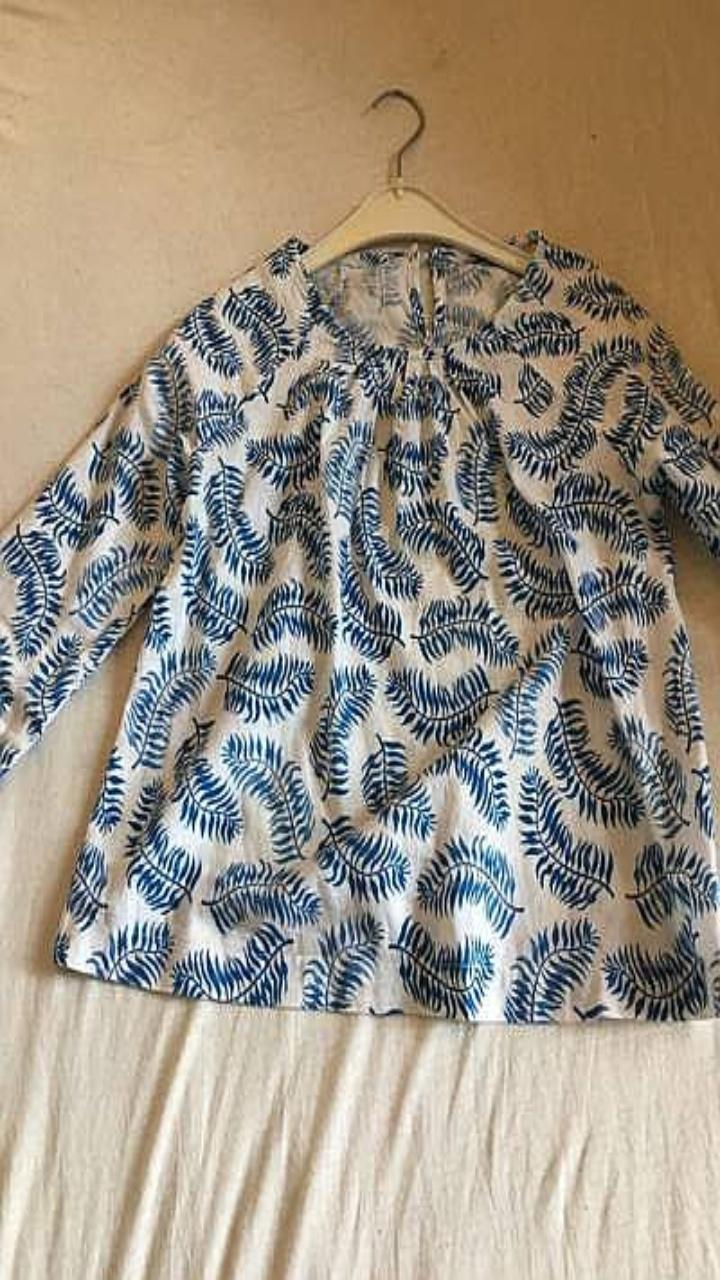T-Shirt: (0, 230, 719, 1022)
